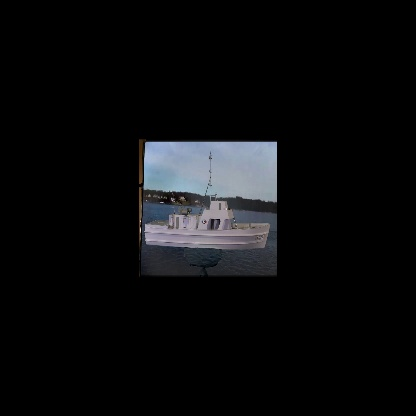YP689: (144, 150, 271, 250)
